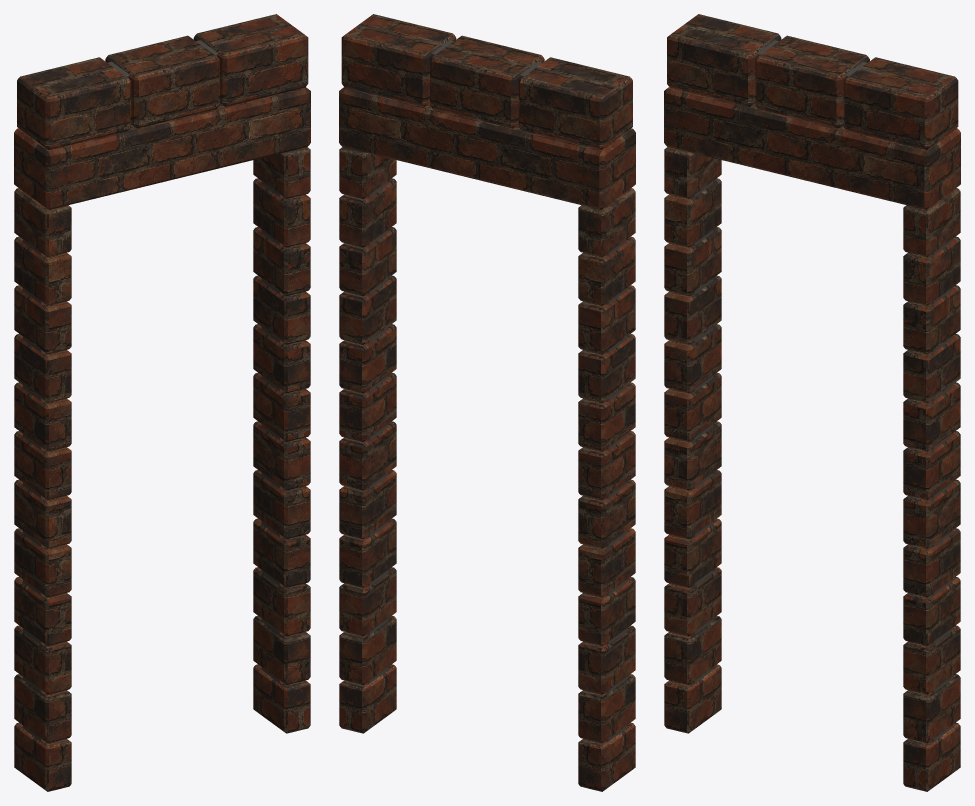
Rendered from doorframe_brick.glb.
The picture shows the model from 3 angles, left to right: view 1: azimuth 30°, elevation 25°; view 2: azimuth 150°, elevation 25°; view 3: azimuth 330°, elevation 25°; orthographic projection.
Parts seen in each view (by area): view 1: doorframe_brick; view 2: doorframe_brick; view 3: doorframe_brick.
Boxes of the visible parts, x1,y1,x2,y2 form: doorframe_brick: (14, 14, 310, 791); doorframe_brick: (339, 14, 635, 791); doorframe_brick: (664, 14, 960, 791).
Size of the model in its own units: 1 by 2.5 by 0.23.
Materials: 2 (1 with a texture image).
